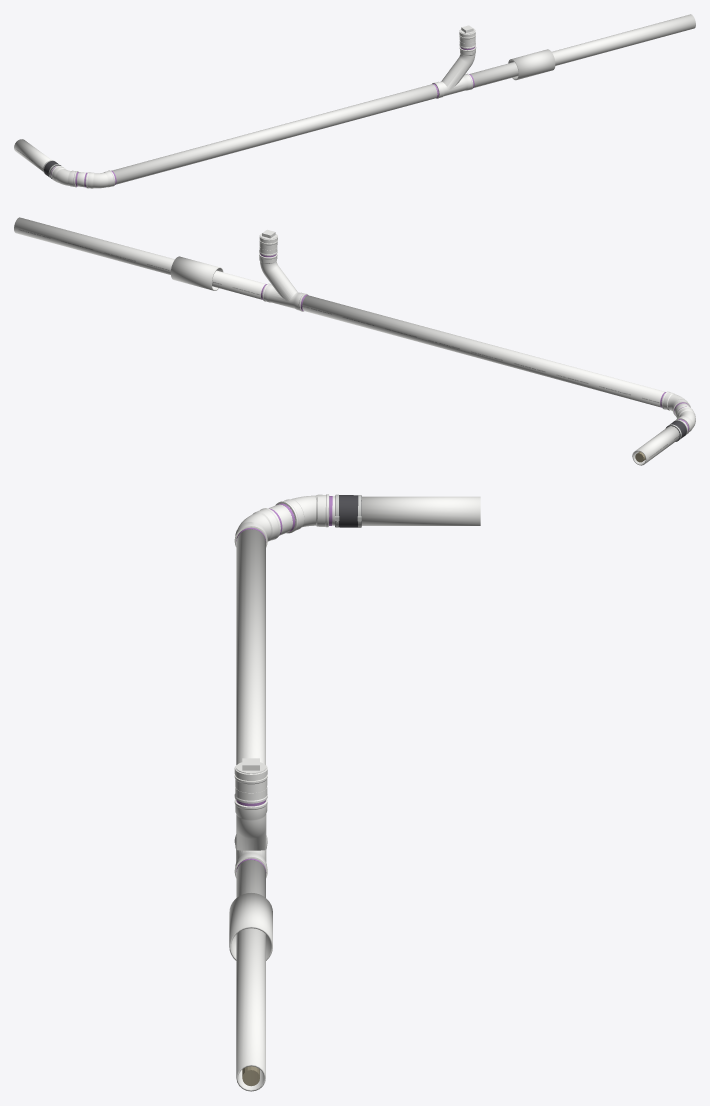
Rendered from slab_pipes_dwv__sewer__eff531ad.glb.
3 views of the same model, one above another, from view 1: azimuth 30°, elevation 25°; view 2: azimuth 150°, elevation 25°; view 3: azimuth 270°, elevation 25° (orthographic). The views are drawn at different scales.
Visible parts, largest first — view 1: pipe_dwv_sewer_trash, cleanout_dwv_yard_trash, pipe_dwv_sewer_trash_sleeve; view 2: pipe_dwv_sewer_trash, cleanout_dwv_yard_trash, pipe_dwv_sewer_trash_sleeve; view 3: pipe_dwv_sewer_trash, cleanout_dwv_yard_trash, pipe_dwv_sewer_trash_sleeve.
Boxes of the visible parts, box(x1,y1,x2,y2) form: pipe_dwv_sewer_trash: box(14, 14, 695, 188); cleanout_dwv_yard_trash: box(432, 30, 476, 98); pipe_dwv_sewer_trash_sleeve: box(508, 49, 555, 80); pipe_dwv_sewer_trash: box(14, 217, 695, 465); cleanout_dwv_yard_trash: box(259, 234, 307, 311); pipe_dwv_sewer_trash_sleeve: box(170, 256, 223, 290); pipe_dwv_sewer_trash: box(234, 494, 480, 1091); cleanout_dwv_yard_trash: box(234, 765, 267, 877); pipe_dwv_sewer_trash_sleeve: box(229, 893, 272, 960).
Bounding box in the file's own units: 5.53 × 0.6171 × 0.9678.
